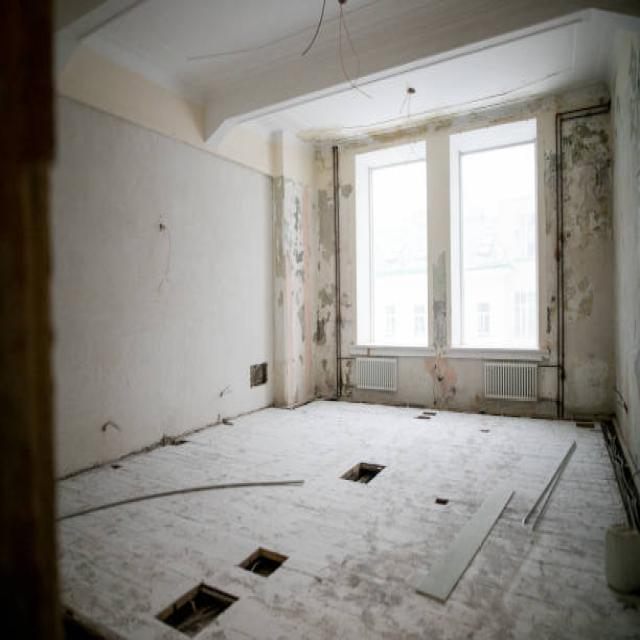floor: (54, 397, 640, 640)
wall: (51, 41, 276, 480), (333, 79, 612, 417), (446, 118, 539, 350), (563, 114, 616, 419), (355, 139, 430, 346), (608, 30, 640, 486), (284, 129, 318, 409), (317, 145, 337, 400), (271, 129, 288, 409), (356, 358, 396, 392)
